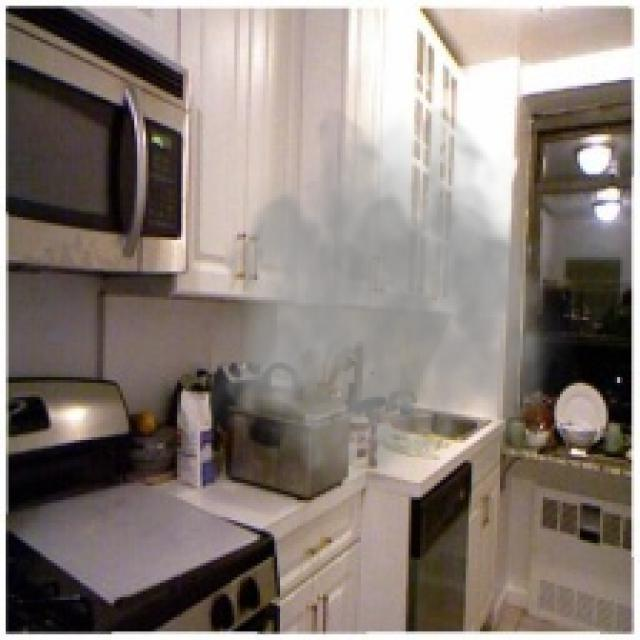Smoke: (211, 103, 583, 503)
